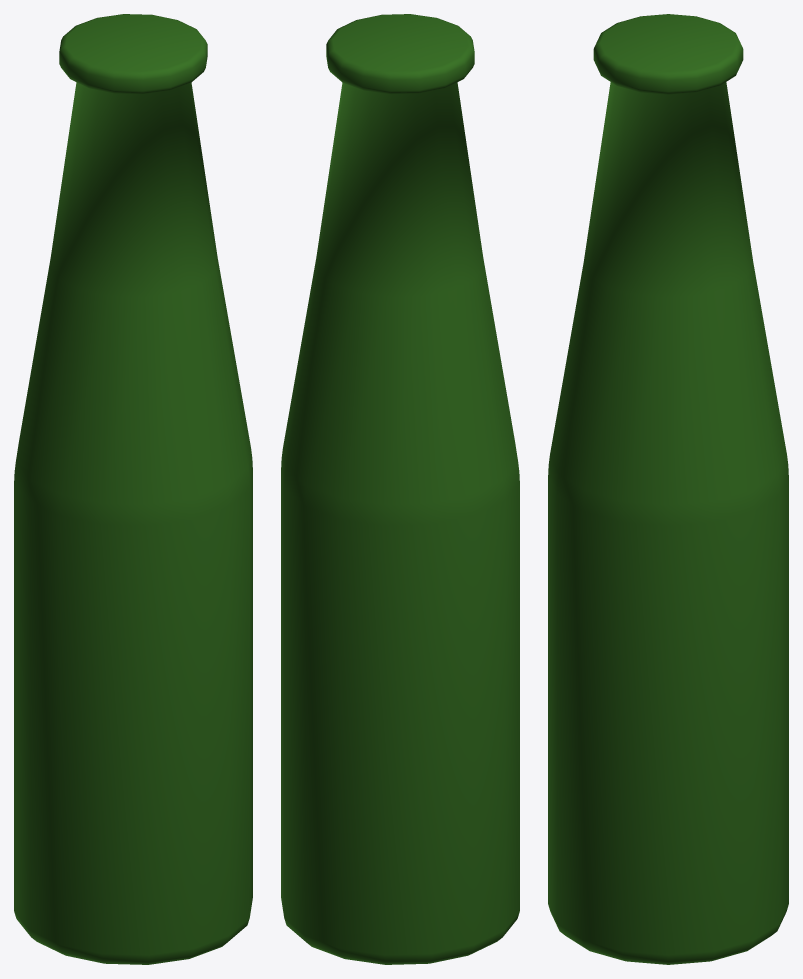
The model's file is szklo.glb.
3 views of the same model, side by side, from view 1: azimuth 30°, elevation 25°; view 2: azimuth 150°, elevation 25°; view 3: azimuth 270°, elevation 25° (orthographic).
Visible parts, largest first — view 1: Cylinder; view 2: Cylinder; view 3: Cylinder.
Part boxes in pixels (x1,y1,x2,y2): Cylinder: (14, 14, 252, 964); Cylinder: (281, 14, 519, 964); Cylinder: (548, 14, 788, 964).
Bounding box in the file's own units: 2 × 8.04 × 2.
